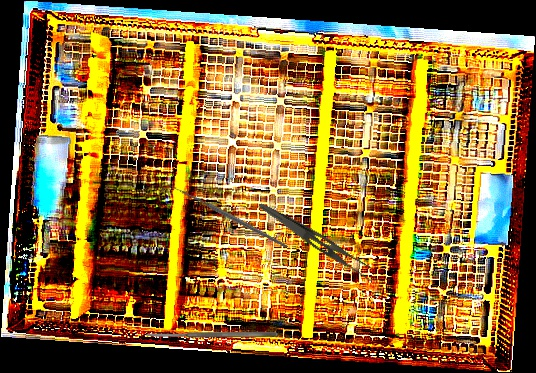Dressing Forceps: (250, 201, 381, 284)
Hook Surgical: (162, 148, 289, 287)
Spatula Surgical: (145, 331, 278, 338)
